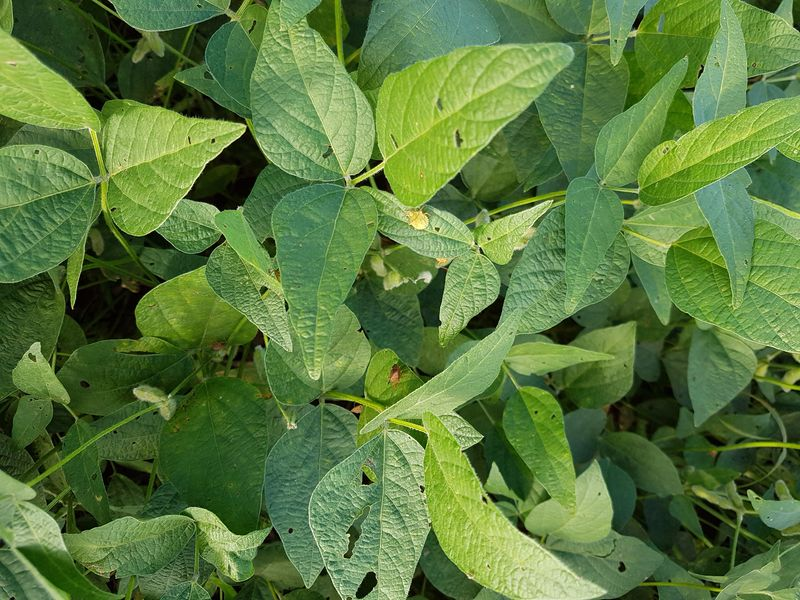Euschistus_heros_adulto: (381, 359, 413, 391)
Euschistus_heros_ninfa: (400, 203, 436, 236)
